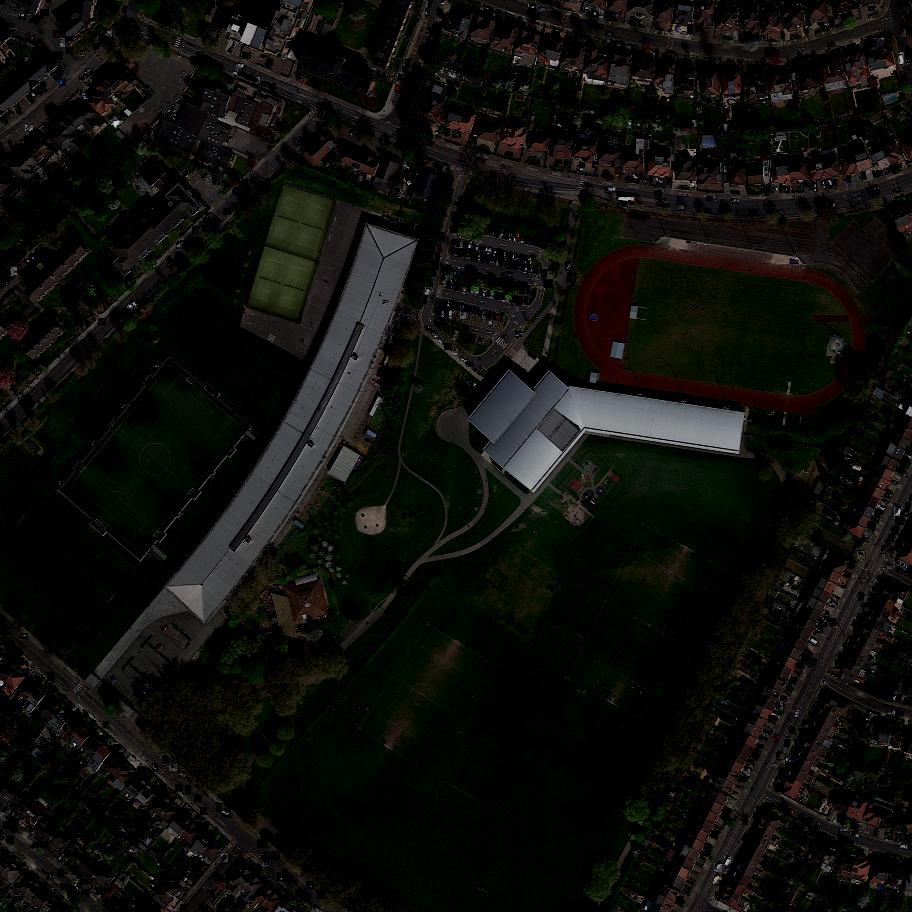large-vehicle: (894, 507, 904, 519), (126, 302, 138, 311), (618, 198, 636, 203), (809, 638, 820, 646), (715, 863, 724, 872), (713, 876, 722, 885), (818, 619, 828, 627), (898, 52, 904, 64), (724, 856, 731, 866), (440, 233, 446, 242), (744, 815, 749, 825), (60, 79, 66, 87), (426, 142, 434, 145), (615, 167, 618, 174), (80, 76, 84, 79)
small-vehicle: (142, 685, 154, 695), (519, 282, 529, 294), (139, 682, 149, 692), (775, 701, 785, 711), (53, 51, 64, 60), (508, 280, 517, 291), (29, 89, 38, 99), (896, 516, 905, 526), (270, 851, 280, 860), (888, 202, 897, 212), (172, 258, 183, 266), (137, 766, 146, 775), (212, 177, 221, 186), (857, 551, 866, 560), (741, 769, 750, 778), (900, 509, 909, 518), (262, 860, 271, 869), (544, 279, 553, 288), (176, 241, 186, 249), (46, 872, 56, 880), (58, 853, 66, 863), (566, 261, 574, 271), (837, 814, 845, 824), (317, 890, 325, 900), (432, 260, 440, 270), (449, 300, 457, 310), (71, 866, 79, 876), (484, 274, 492, 284), (688, 24, 695, 35), (437, 182, 444, 193), (209, 0, 217, 9), (789, 726, 797, 735), (776, 751, 784, 760), (201, 822, 210, 830), (194, 238, 202, 247), (195, 794, 203, 803), (206, 212, 214, 221), (202, 173, 210, 182), (245, 187, 253, 196), (231, 202, 240, 210), (223, 209, 232, 217), (74, 883, 82, 892), (53, 30, 61, 39), (491, 248, 499, 257), (258, 841, 267, 849), (711, 830, 720, 838), (751, 750, 760, 758), (737, 777, 746, 785), (45, 685, 53, 694), (877, 503, 886, 511), (500, 259, 508, 268), (221, 854, 229, 863), (95, 888, 104, 896), (82, 889, 91, 897), (466, 285, 474, 294), (526, 237, 534, 246), (452, 131, 461, 139), (304, 33, 311, 43), (37, 86, 44, 96), (495, 248, 502, 258), (768, 716, 778, 723), (820, 832, 827, 842), (878, 38, 885, 48), (828, 18, 835, 28), (459, 268, 466, 278), (513, 281, 519, 292), (816, 625, 824, 633), (86, 68, 94, 76), (199, 221, 207, 229), (192, 227, 200, 235), (71, 706, 79, 714), (79, 715, 87, 723), (170, 764, 178, 772), (175, 785, 183, 793), (233, 188, 241, 196), (58, 869, 66, 877), (508, 261, 516, 269), (201, 808, 209, 816), (796, 662, 804, 670), (798, 813, 806, 821), (892, 527, 900, 535), (276, 873, 284, 881), (207, 890, 215, 898), (295, 889, 303, 897), (306, 882, 314, 890), (901, 29, 908, 38), (656, 178, 665, 185), (577, 165, 586, 172), (205, 7, 212, 16), (25, 33, 32, 42), (48, 672, 55, 681), (163, 756, 170, 765), (216, 803, 223, 812), (222, 811, 231, 818), (99, 37, 108, 44), (109, 43, 116, 52), (41, 10, 50, 17), (524, 265, 531, 274), (481, 254, 488, 263), (487, 247, 494, 256), (477, 337, 484, 346), (829, 598, 838, 605), (889, 534, 896, 543), (677, 897, 686, 904), (777, 804, 786, 811), (850, 820, 857, 829), (499, 249, 506, 258), (470, 251, 477, 260), (465, 333, 472, 342), (18, 862, 27, 869), (513, 295, 520, 304), (436, 306, 443, 315), (462, 286, 469, 295), (490, 12, 497, 21), (566, 36, 573, 45), (531, 14, 540, 21), (530, 237, 537, 246), (495, 229, 502, 238), (60, 38, 66, 48), (864, 42, 870, 52), (467, 269, 473, 279), (455, 281, 461, 291), (156, 645, 164, 652), (105, 31, 113, 38), (254, 77, 261, 85), (246, 74, 254, 81), (67, 704, 74, 712), (103, 721, 110, 729), (179, 771, 187, 778), (214, 219, 222, 226), (25, 126, 33, 133), (19, 144, 26, 152), (240, 181, 248, 188), (445, 343, 452, 351), (460, 357, 468, 364), (473, 254, 480, 262), (3, 277, 10, 285), (98, 319, 106, 326), (12, 267, 19, 275), (458, 302, 465, 310), (462, 305, 469, 313), (395, 85, 402, 93), (405, 60, 412, 68), (472, 138, 479, 146), (836, 842, 843, 850), (830, 619, 837, 627), (870, 593, 878, 600), (896, 567, 904, 574), (759, 735, 767, 742), (746, 759, 754, 766), (869, 522, 877, 529), (113, 22, 120, 30), (3, 821, 10, 829), (451, 226, 458, 234), (505, 295, 512, 303), (904, 454, 912, 461), (518, 254, 525, 262), (7, 836, 14, 844), (60, 883, 68, 890), (180, 904, 187, 912), (509, 297, 516, 305), (555, 159, 563, 166), (242, 52, 251, 58), (795, 709, 801, 718), (784, 739, 790, 748), (64, 700, 70, 709), (185, 785, 191, 794), (32, 132, 38, 141), (425, 287, 431, 296), (20, 634, 29, 640), (503, 251, 509, 260), (458, 248, 464, 257), (442, 299, 448, 308), (895, 712, 904, 718), (887, 563, 896, 569), (893, 188, 902, 194), (68, 892, 77, 898), (438, 299, 444, 308), (599, 10, 605, 19), (654, 190, 663, 196), (490, 290, 496, 299), (494, 291, 500, 300), (444, 128, 450, 137), (450, 266, 455, 276), (472, 334, 477, 344), (823, 615, 830, 622), (29, 35, 36, 42), (240, 71, 247, 78), (94, 44, 101, 51), (24, 141, 31, 148), (296, 140, 303, 147), (516, 331, 523, 338), (30, 253, 37, 260), (66, 48, 73, 55), (566, 277, 573, 284), (825, 838, 832, 845), (689, 182, 696, 189), (402, 66, 409, 73), (261, 81, 269, 87), (785, 185, 791, 193), (821, 179, 827, 187), (260, 54, 268, 60), (152, 764, 158, 772), (82, 93, 88, 101), (432, 331, 438, 339), (425, 326, 433, 332), (460, 312, 466, 320), (484, 9, 492, 15), (790, 677, 798, 683), (841, 652, 849, 658), (848, 563, 856, 569), (756, 744, 764, 750), (895, 833, 901, 841), (447, 282, 453, 290), (833, 841, 839, 849), (905, 503, 911, 511), (874, 511, 882, 517), (872, 185, 880, 191), (827, 179, 833, 187), (749, 210, 757, 216), (462, 249, 468, 257), (19, 820, 25, 828), (478, 7, 484, 15), (504, 231, 510, 239), (398, 74, 404, 82), (786, 759, 795, 764), (468, 384, 477, 389), (438, 244, 443, 253), (451, 280, 456, 289), (542, 270, 547, 279), (526, 285, 531, 294), (797, 738, 806, 743), (893, 693, 898, 702), (805, 818, 814, 823), (855, 822, 860, 831), (533, 265, 538, 274), (609, 12, 618, 17), (639, 172, 644, 181), (222, 180, 228, 187), (781, 697, 788, 703), (269, 84, 276, 90), (209, 225, 215, 232), (44, 123, 51, 129), (35, 135, 41, 142), (8, 109, 14, 116), (438, 338, 445, 344), (503, 336, 509, 343), (450, 248, 456, 255), (486, 291, 492, 298), (529, 4, 536, 10), (859, 850, 865, 857), (827, 42, 834, 48), (803, 180, 809, 187), (26, 826, 33, 832), (349, 129, 354, 137), (868, 6, 876, 11), (814, 823, 822, 828), (774, 734, 779, 742), (25, 257, 30, 265), (10, 270, 15, 278), (6, 273, 11, 281), (494, 258, 499, 266), (481, 275, 486, 283), (441, 310, 446, 318), (763, 33, 768, 41), (521, 22, 526, 30), (813, 181, 818, 189), (494, 278, 499, 286), (564, 160, 569, 168), (24, 669, 30, 675), (452, 350, 458, 356), (524, 296, 528, 305), (513, 253, 517, 262), (487, 310, 491, 319), (861, 614, 867, 620), (786, 808, 792, 814), (513, 261, 517, 270), (512, 233, 517, 240), (774, 185, 779, 192), (232, 70, 239, 75), (123, 7, 128, 14), (114, 744, 119, 751), (466, 362, 473, 367), (897, 695, 902, 702), (859, 593, 864, 600), (789, 754, 796, 759), (722, 64, 727, 71), (755, 33, 760, 40), (505, 272, 512, 277), (650, 51, 655, 58), (378, 148, 385, 153), (236, 64, 244, 68), (850, 832, 858, 836), (200, 25, 204, 33), (18, 15, 26, 19), (1, 281, 5, 289), (518, 282, 522, 290), (425, 8, 429, 16), (453, 239, 457, 247), (509, 252, 513, 260), (423, 296, 427, 304), (524, 236, 528, 244), (492, 229, 497, 235), (90, 88, 95, 94), (485, 247, 490, 253), (826, 610, 831, 616), (844, 572, 850, 577), (739, 854, 745, 859), (30, 847, 36, 852), (488, 226, 493, 232), (266, 59, 273, 63), (435, 253, 439, 260), (469, 243, 473, 250), (447, 300, 451, 307), (491, 256, 495, 263), (524, 256, 528, 263), (528, 257, 532, 264), (499, 292, 503, 299), (495, 314, 499, 321), (518, 262, 522, 269), (888, 710, 895, 714), (882, 546, 886, 553), (498, 257, 502, 264), (429, 279, 433, 286), (518, 297, 522, 304), (583, 7, 587, 14), (588, 21, 595, 25), (649, 176, 653, 183), (609, 187, 616, 191), (471, 286, 475, 293), (539, 240, 543, 247), (471, 270, 474, 279), (605, 33, 614, 36), (517, 255, 522, 260), (840, 828, 848, 831), (476, 245, 480, 251), (483, 290, 486, 298), (460, 240, 463, 248), (502, 279, 505, 287), (568, 273, 574, 277), (901, 844, 907, 848), (834, 13, 838, 19), (821, 23, 829, 26), (852, 44, 856, 50), (862, 172, 866, 178), (847, 175, 850, 183), (832, 179, 836, 185), (730, 199, 736, 203), (591, 11, 597, 15), (579, 162, 585, 166), (476, 288, 480, 294), (34, 677, 37, 684), (531, 266, 534, 273), (467, 250, 470, 257), (456, 240, 459, 247), (500, 314, 503, 321), (492, 312, 495, 319), (538, 8, 545, 11), (479, 309, 482, 316), (896, 468, 903, 471), (877, 170, 880, 177), (432, 270, 435, 277), (481, 245, 484, 252), (498, 280, 501, 287), (667, 178, 670, 185), (592, 161, 595, 168), (498, 15, 501, 22), (549, 266, 552, 273), (506, 153, 513, 156), (773, 66, 778, 70), (501, 231, 504, 237), (18, 264, 21, 270), (521, 264, 524, 270), (455, 267, 457, 276), (483, 311, 486, 317), (467, 306, 470, 312), (904, 572, 910, 575), (705, 210, 711, 213), (830, 205, 836, 208), (718, 211, 724, 214), (506, 259, 508, 268), (464, 269, 466, 278), (460, 284, 463, 290), (358, 132, 360, 141), (303, 133, 307, 137), (450, 310, 452, 318), (758, 66, 762, 70), (885, 493, 889, 497), (893, 164, 901, 166), (471, 307, 474, 312), (679, 206, 684, 209), (768, 186, 771, 191), (777, 211, 782, 214), (707, 197, 712, 200), (622, 168, 625, 173), (266, 63, 273, 65), (30, 19, 37, 21), (475, 307, 477, 314), (447, 267, 449, 274), (506, 279, 508, 286), (479, 272, 481, 279), (780, 185, 782, 192), (487, 256, 489, 263), (438, 8, 440, 15), (629, 174, 636, 176), (445, 309, 447, 316), (517, 235, 520, 239), (466, 381, 472, 383), (479, 255, 481, 261), (473, 245, 475, 251), (778, 785, 780, 791), (461, 332, 463, 338), (895, 201, 901, 203), (661, 204, 667, 206), (502, 294, 504, 300), (602, 48, 604, 54), (536, 239, 538, 245), (490, 320, 492, 325), (509, 234, 511, 239), (456, 249, 458, 254), (455, 303, 457, 308), (863, 536, 868, 538), (480, 288, 482, 293), (354, 129, 356, 134), (681, 195, 687, 196), (809, 22, 810, 27), (540, 182, 545, 183)
